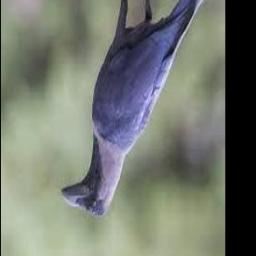Crow: (62, 0, 219, 218)
